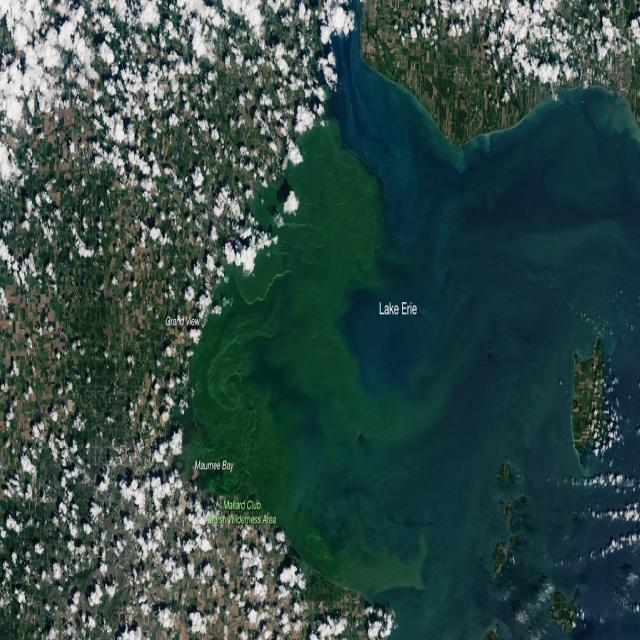algal: (180, 31, 639, 639)
